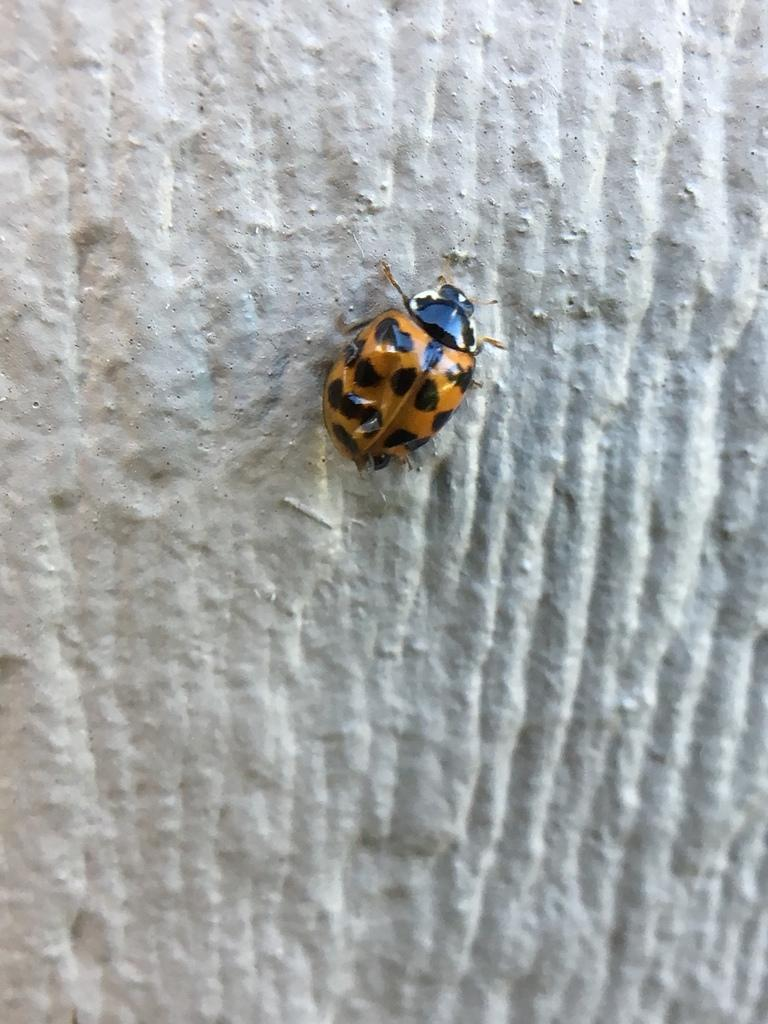ladybug: (318, 255, 514, 480)
